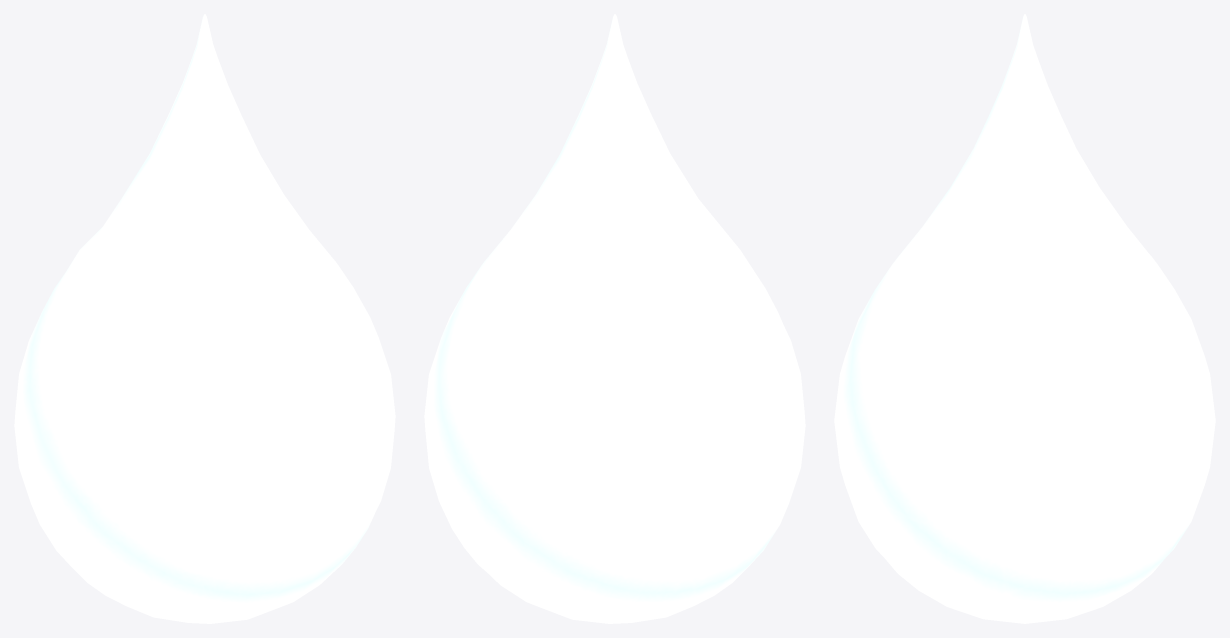
Rendered from water.glb.
The picture shows the model from 3 angles, left to right: view 1: azimuth 30°, elevation 25°; view 2: azimuth 150°, elevation 25°; view 3: azimuth 270°, elevation 25°; orthographic projection.
Visible parts, largest first — view 1: Drops; view 2: Drops; view 3: Drops.
Boxes of the visible parts, x1,y1,x2,y2 form: Drops: [14, 14, 395, 623]; Drops: [424, 14, 805, 623]; Drops: [834, 14, 1215, 623].
Size of the model in its own units: 0.0247 by 0.0423 by 0.0247.
1 material, 1 textured.
